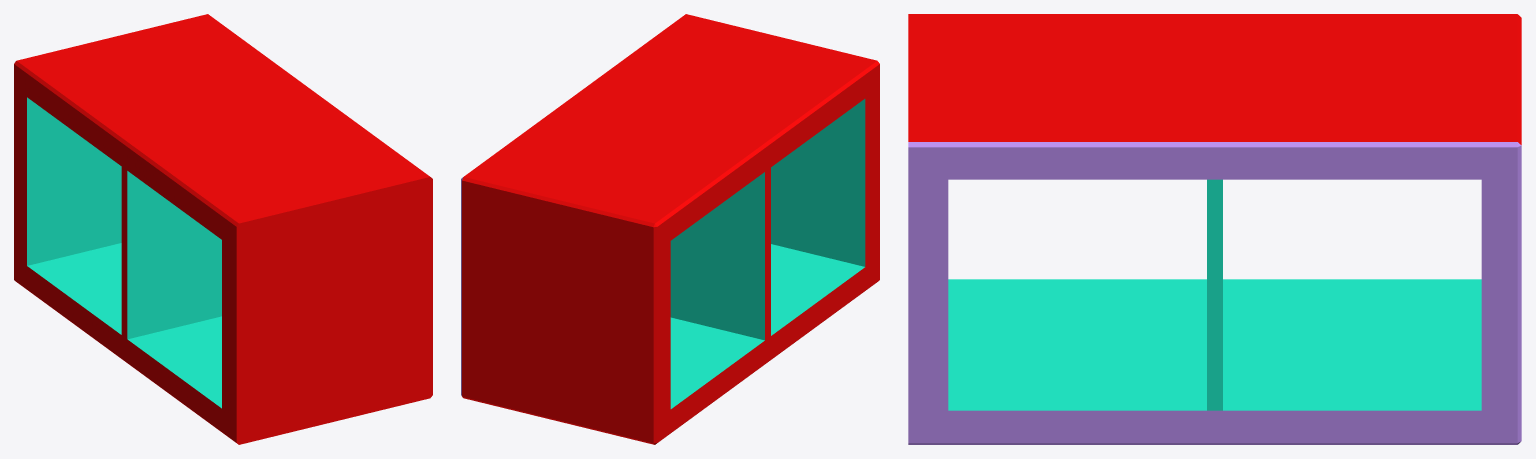
File: shelving_unit5.FBX
3 renders of one model, left to right at view 1: azimuth 30°, elevation 25°; view 2: azimuth 150°, elevation 25°; view 3: azimuth 270°, elevation 25°, orthographic. The views are drawn at different scales.
Parts seen in each view (by area): view 1: shelving_unit; view 2: shelving_unit; view 3: shelving_unit.
Part boxes in pixels (left/top/right/bottom): shelving_unit: left=14, top=14, right=432, bottom=444; shelving_unit: left=461, top=14, right=879, bottom=444; shelving_unit: left=908, top=14, right=1521, bottom=444.
Size of the model in its own units: 39 by 42 by 77.
